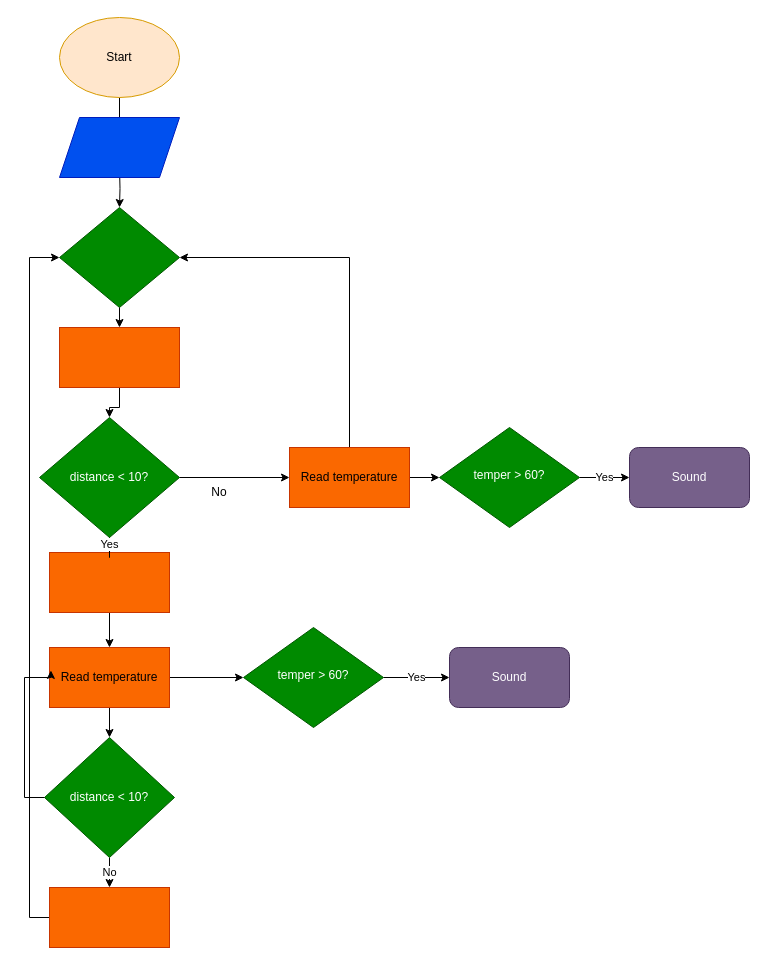
The diagram is 767 pixels wide and 965 high, and some of its shapes have lost their labels. Here are the shapes that lost their labels. From the top down, the centre of each, then its label:
At [119,147]: "Setup():".
At [119,257]: "Loop()".
At [119,357]: "Read Distance".
At [109,582]: "Open Trash".
At [109,917]: "Wait 2 second Close trash".
